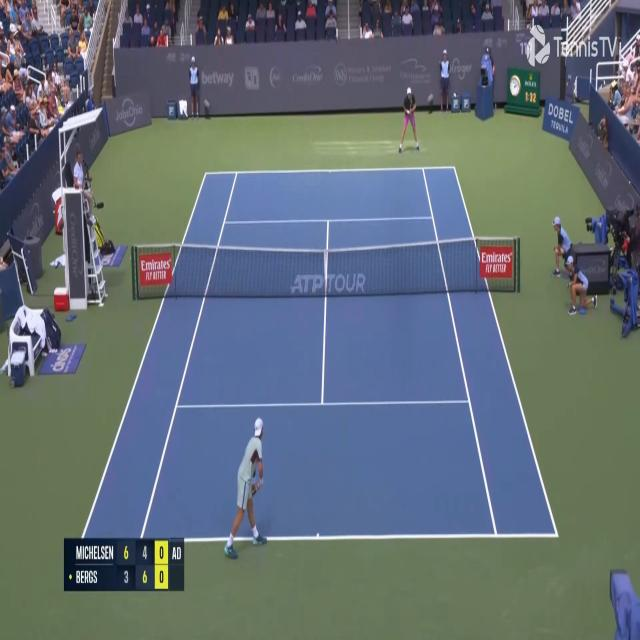tennis-player: (222, 412, 270, 562), (398, 84, 420, 155)
